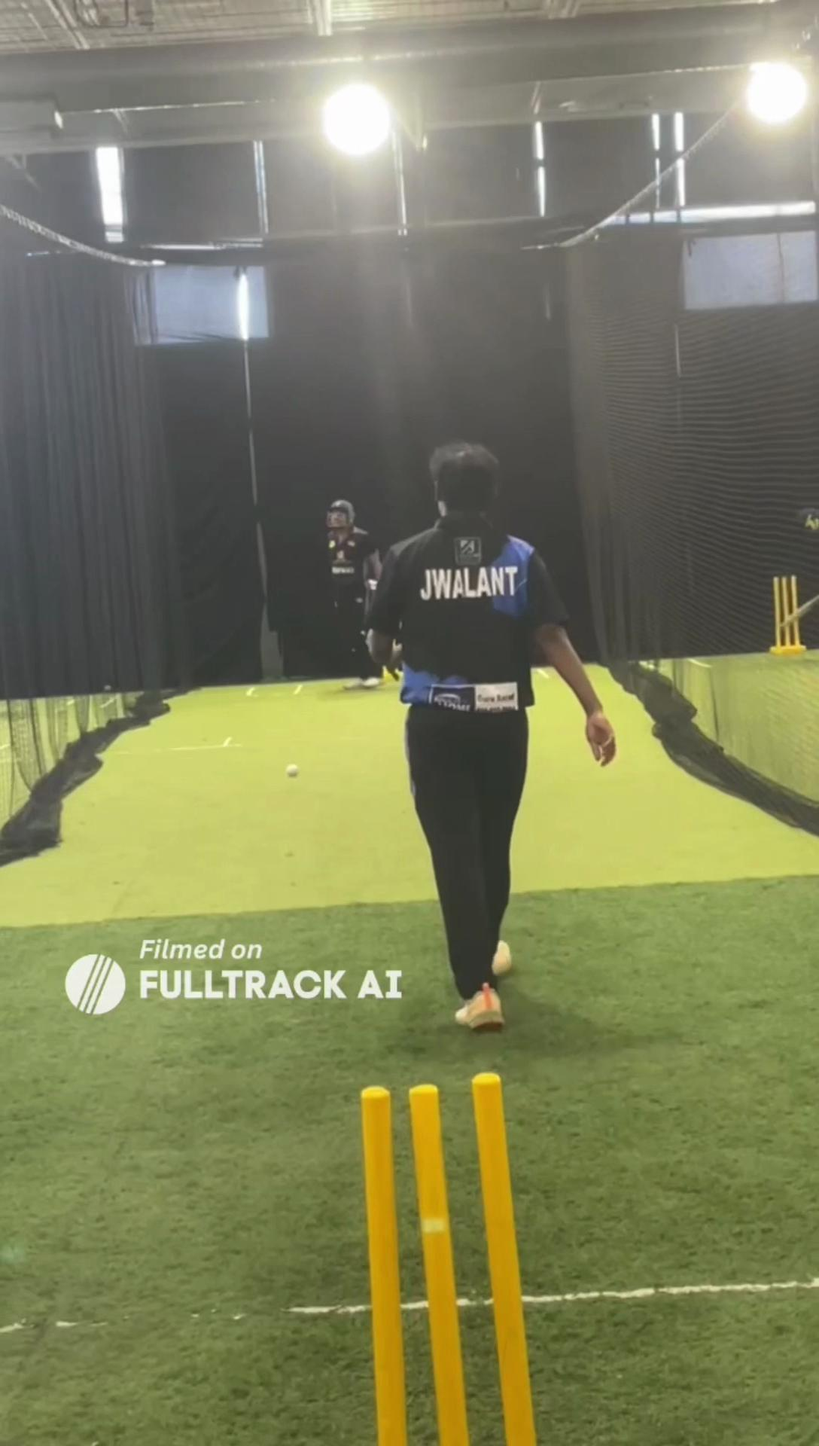ball: (280, 760, 309, 785)
